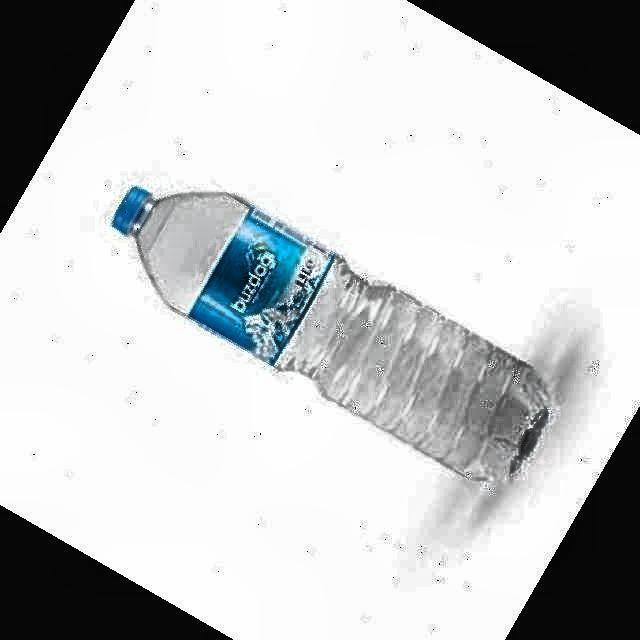plastic: (112, 188, 548, 481)
